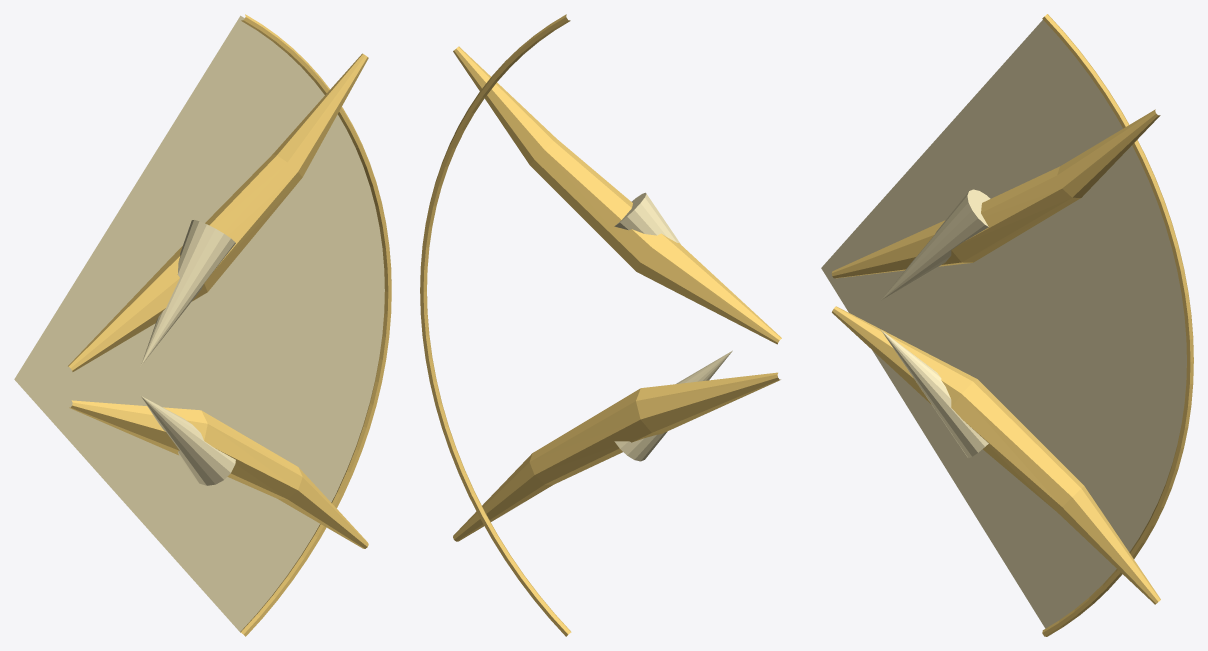
3 renders of one model, left to right at view 1: azimuth 30°, elevation 25°; view 2: azimuth 150°, elevation 25°; view 3: azimuth 330°, elevation 25°, orthographic.
Parts seen in each view (by area): view 1: E_pull_fan_fill, E_pull_arc_1, E_pull_arc_-1, E_pull_fan_rim, E_grab_hook_1, E_grab_hook_-1; view 2: E_pull_arc_1, E_pull_arc_-1, E_pull_fan_rim, E_grab_hook_1, E_grab_hook_-1; view 3: E_pull_fan_fill, E_pull_arc_-1, E_pull_arc_1, E_pull_fan_rim, E_grab_hook_1, E_grab_hook_-1.
Part boxes in pixels (<box>): E_pull_fan_fill: <box>14,15,384,632</box>; E_pull_arc_1: <box>68,53,368,371</box>; E_pull_arc_-1: <box>69,400,368,548</box>; E_pull_fan_rim: <box>240,14,391,636</box>; E_grab_hook_1: <box>141,220,235,365</box>; E_grab_hook_-1: <box>141,396,235,485</box>; E_pull_arc_1: <box>453,46,781,344</box>; E_pull_arc_-1: <box>453,372,780,541</box>; E_pull_fan_rim: <box>420,14,571,636</box>; E_grab_hook_1: <box>614,192,680,244</box>; E_grab_hook_-1: <box>614,350,732,461</box>; E_pull_fan_fill: <box>821,20,1186,628</box>; E_pull_arc_-1: <box>832,306,1160,604</box>; E_pull_arc_1: <box>831,109,1160,278</box>; E_pull_fan_rim: <box>1042,14,1193,636</box>; E_grab_hook_1: <box>881,189,990,300</box>; E_grab_hook_-1: <box>881,330,988,458</box>.
Size of the model in its own units: 2.72 by 4.32 by 0.42.
